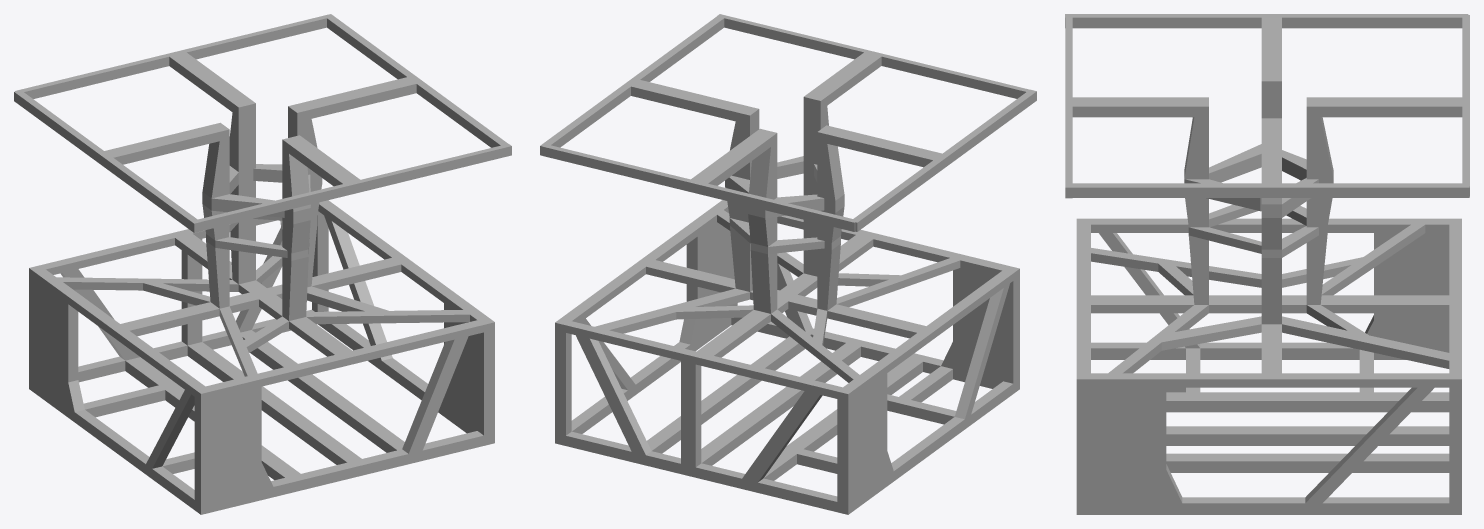
Rendered from LargeJumpDriveCharger_Large_Constr2.fbx.
3 renders of one model, left to right at view 1: azimuth 30°, elevation 25°; view 2: azimuth 150°, elevation 25°; view 3: azimuth 270°, elevation 25°, orthographic. The views are drawn at different scales.
Parts seen in each view (by area): view 1: Cube.001; view 2: Cube.001; view 3: Cube.001.
Boxes of the visible parts, bbox=[...] form: Cube.001: bbox=[14, 14, 511, 514]; Cube.001: bbox=[540, 14, 1036, 514]; Cube.001: bbox=[1065, 14, 1469, 514].
Size of the model in its own units: 7.48 by 6.7 by 7.37.
